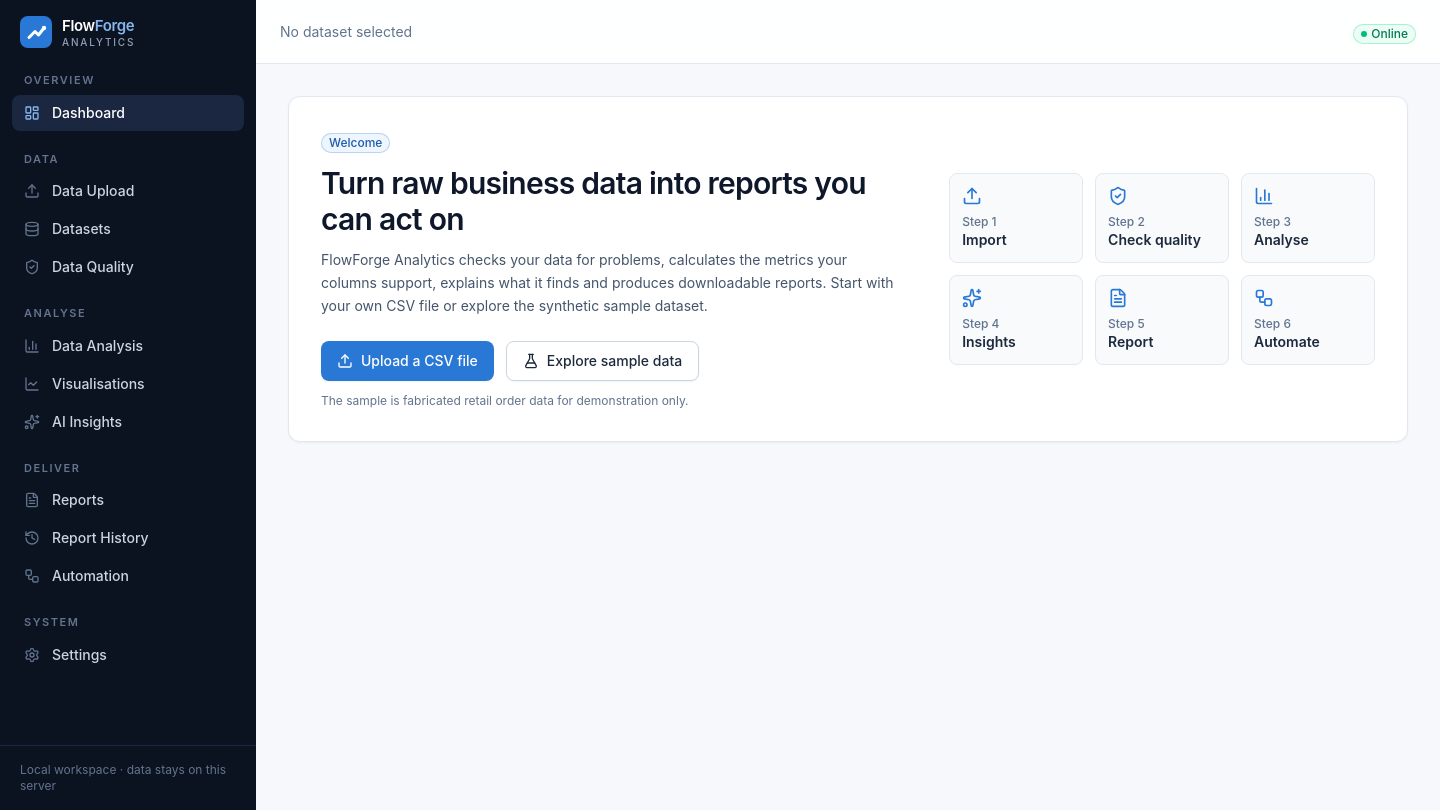
Scenario: App › navigates between sections from the sidebar
Click the link "Settings".
click(65, 654)  # box x1=24 y1=646 x2=107 y2=662
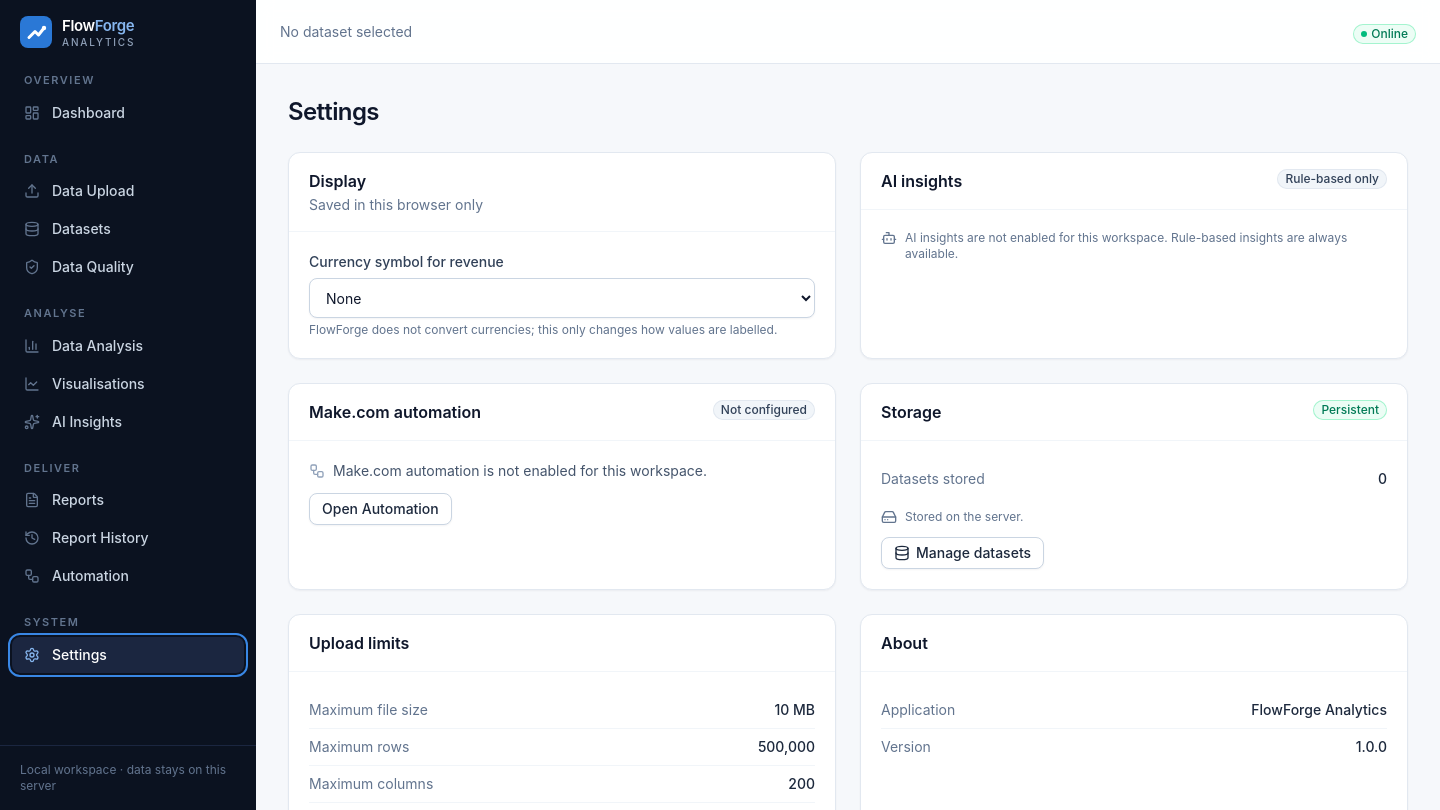
Now the heading "Settings" is shown, box x1=288 y1=96 x2=379 y2=128
Now the text "Rule-based only" is shown, box x1=1277 y1=169 x2=1387 y2=189
